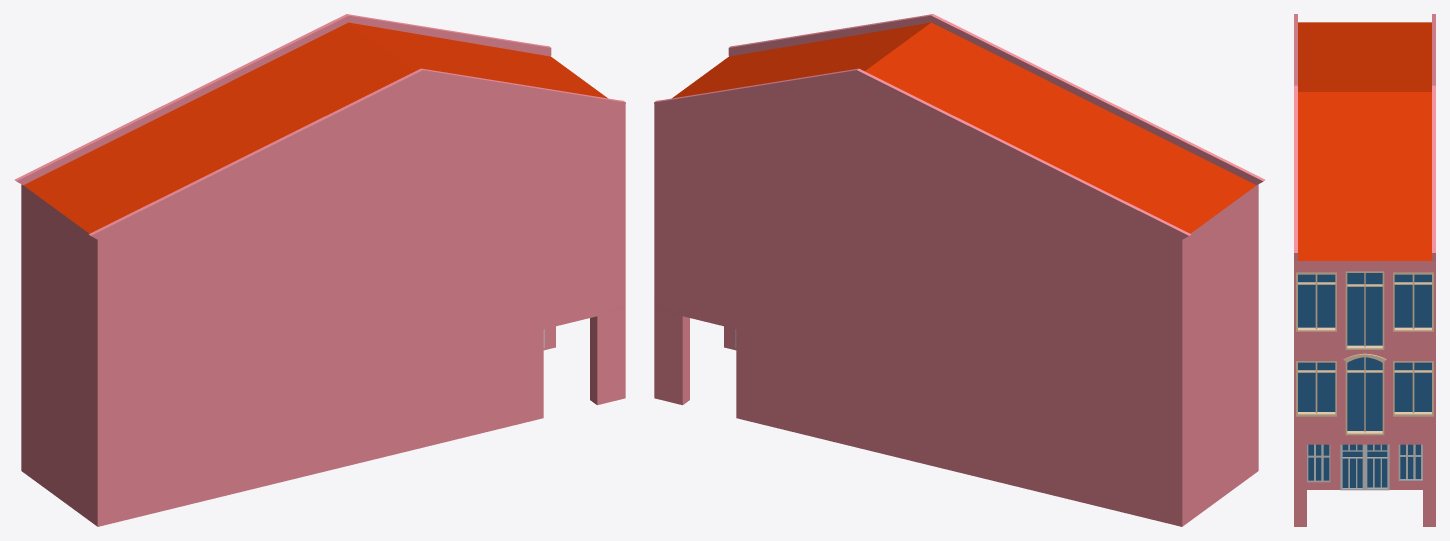
Rendered from house5.fbx.
3 renders of one model, left to right at view 1: azimuth 30°, elevation 25°; view 2: azimuth 150°, elevation 25°; view 3: azimuth 270°, elevation 25°, orthographic. The views are drawn at different scales.
Visible parts, largest first — view 1: house5; view 2: house5; view 3: house5.
Part boxes in pixels (bbox=[...]): house5: bbox=[14, 14, 625, 526]; house5: bbox=[654, 14, 1265, 526]; house5: bbox=[1294, 14, 1435, 526].
Bounding box in the file's own units: 1208 × 813 × 299.
